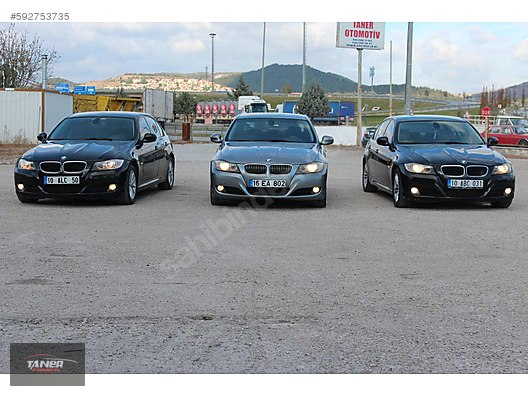bmw: (12, 108, 180, 210), (359, 110, 518, 216), (207, 110, 335, 210)
